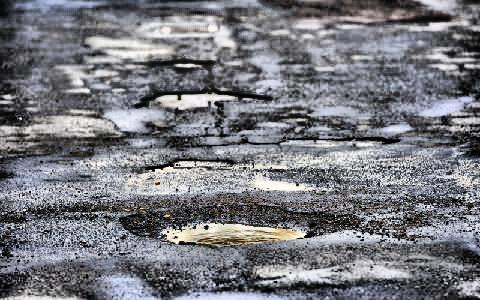pothole: (118, 200, 340, 246), (134, 89, 271, 110), (277, 134, 398, 147), (145, 158, 234, 171), (158, 58, 214, 68)
